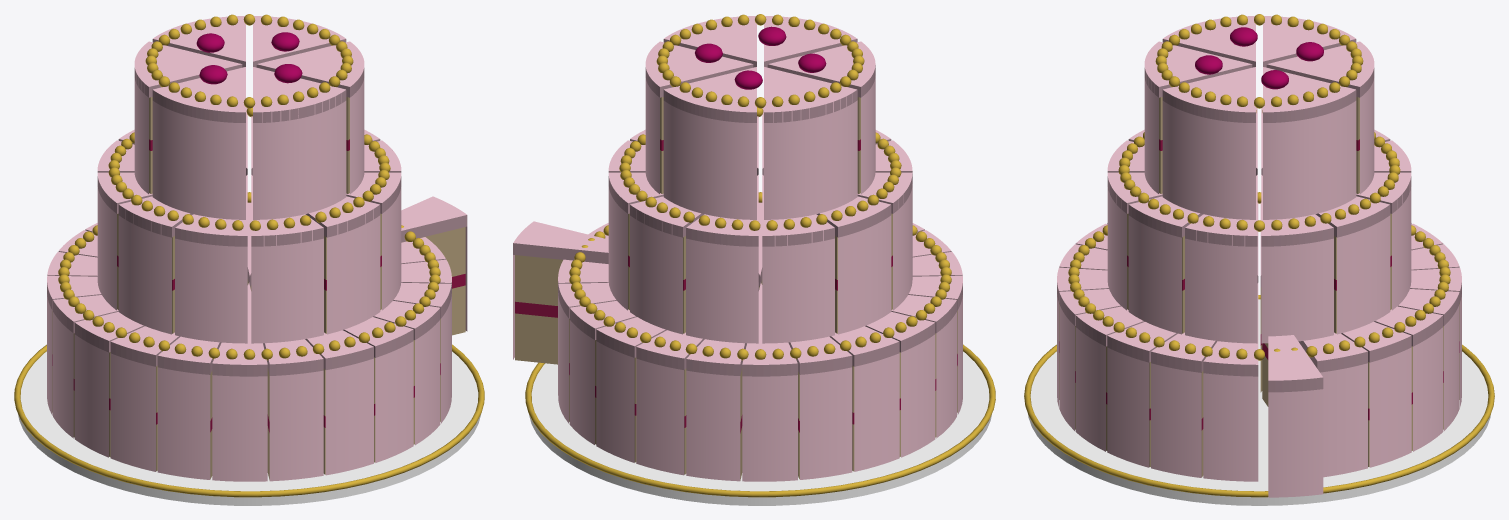
The model's file is torta-30cm-10alto-3p-40porc-rosa.glb.
3 renders of one model, left to right at view 1: azimuth 30°, elevation 25°; view 2: azimuth 150°, elevation 25°; view 3: azimuth 270°, elevation 25°, orthographic.
Size of the model in its own units: 0.3815 by 0.3056 by 0.365.
